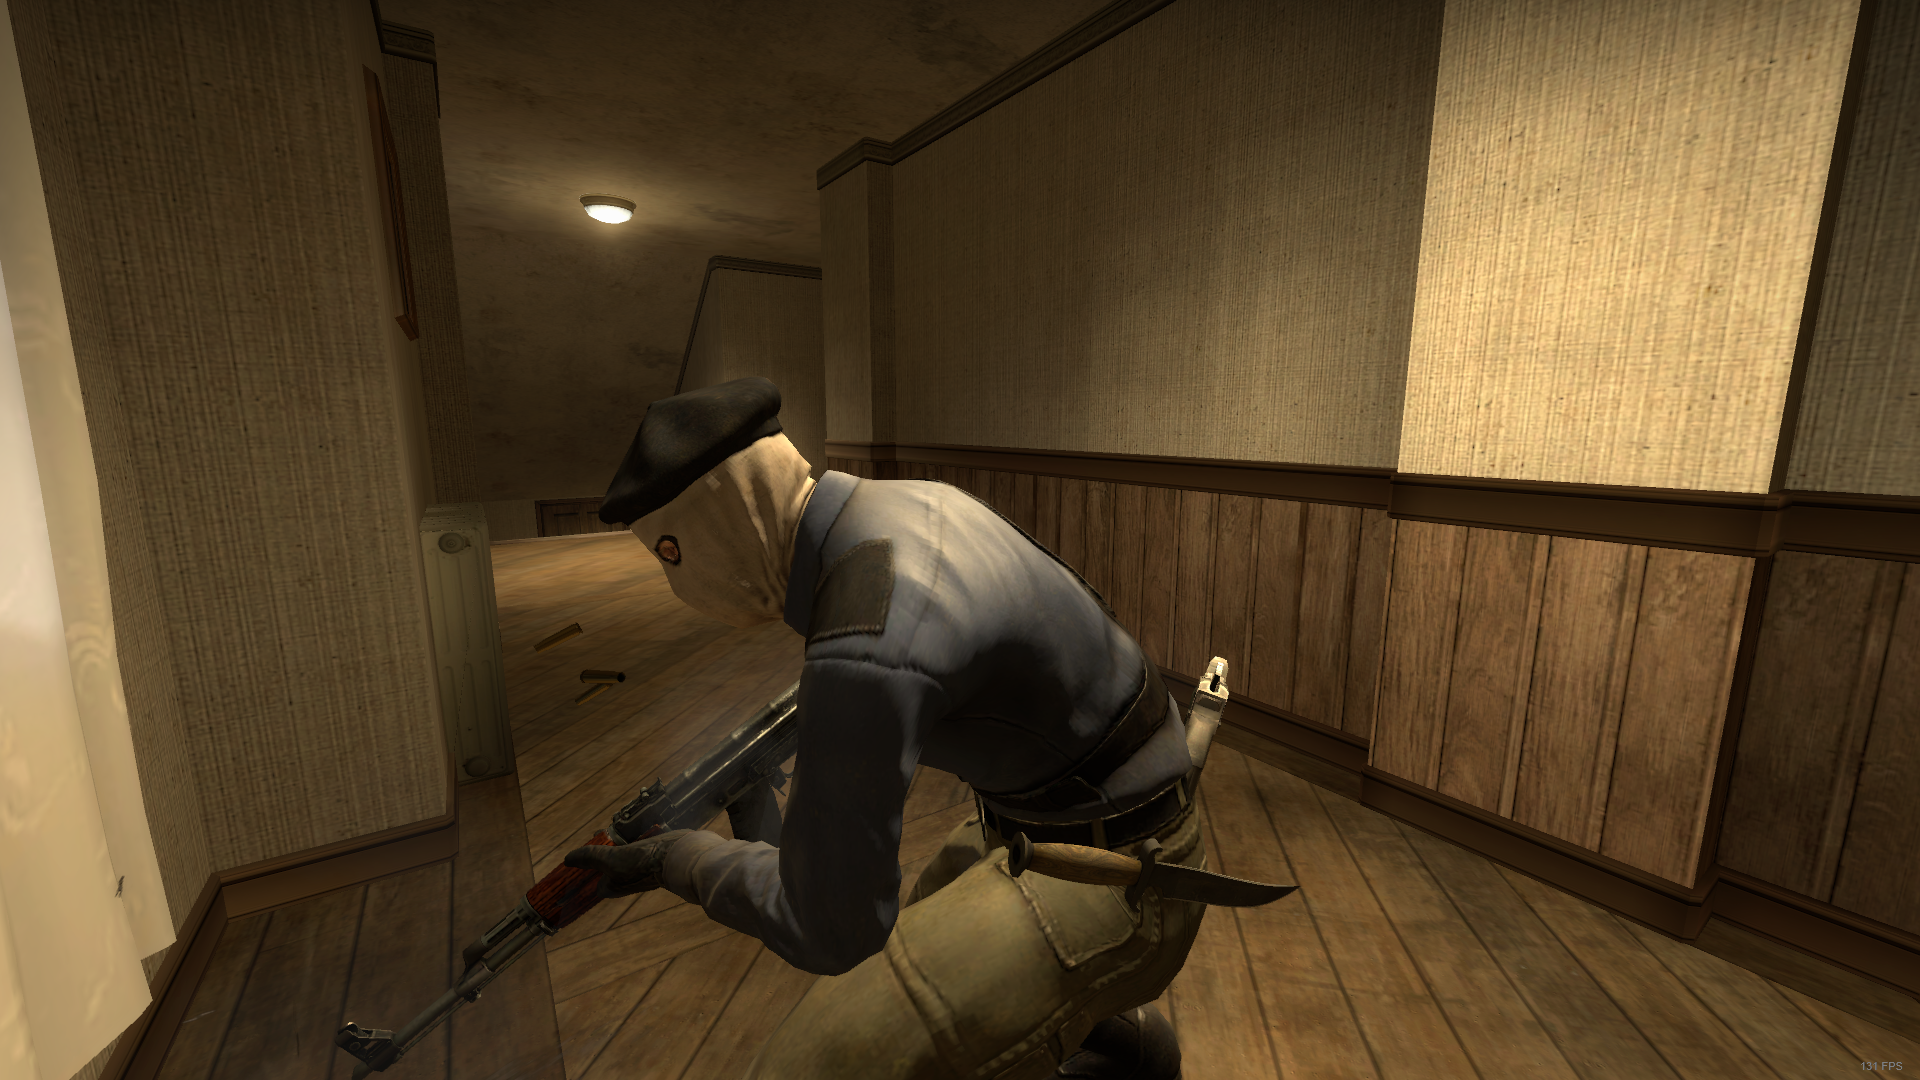t: (558, 364, 1262, 1075)
